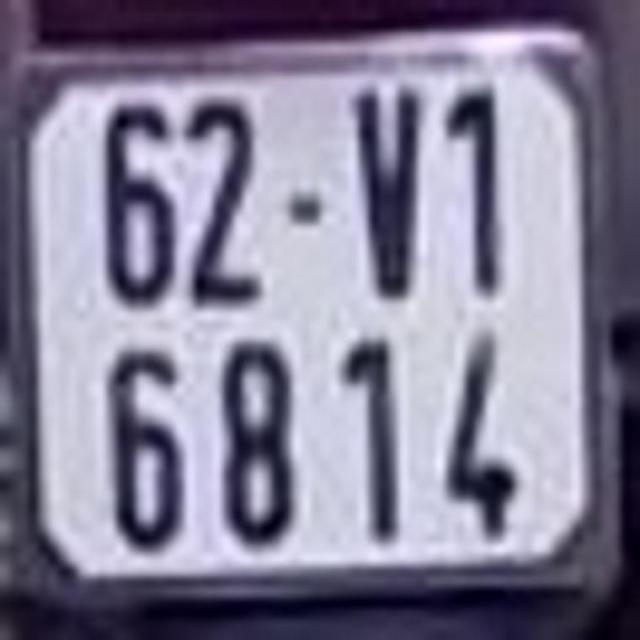1: (340, 327, 402, 536), (450, 86, 508, 287)
2: (186, 107, 258, 296)
4: (447, 327, 525, 540)
6: (102, 346, 186, 551), (107, 106, 173, 304)
8: (223, 345, 301, 537)
V: (361, 77, 418, 300)
